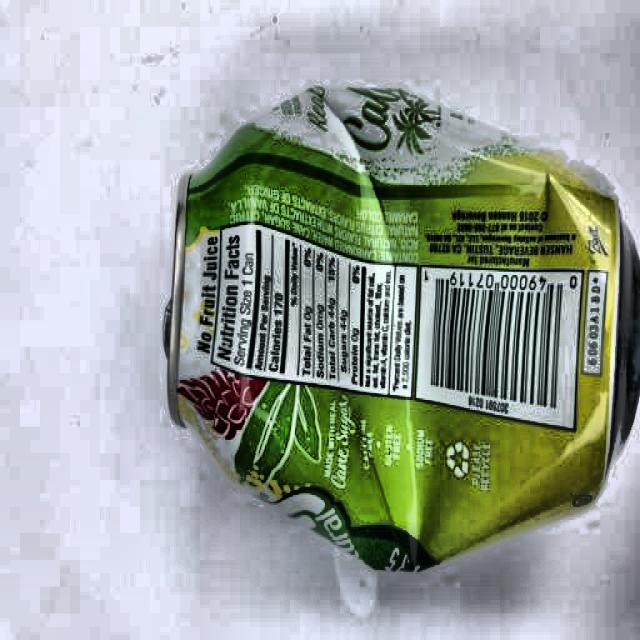metal: (158, 82, 640, 576)
